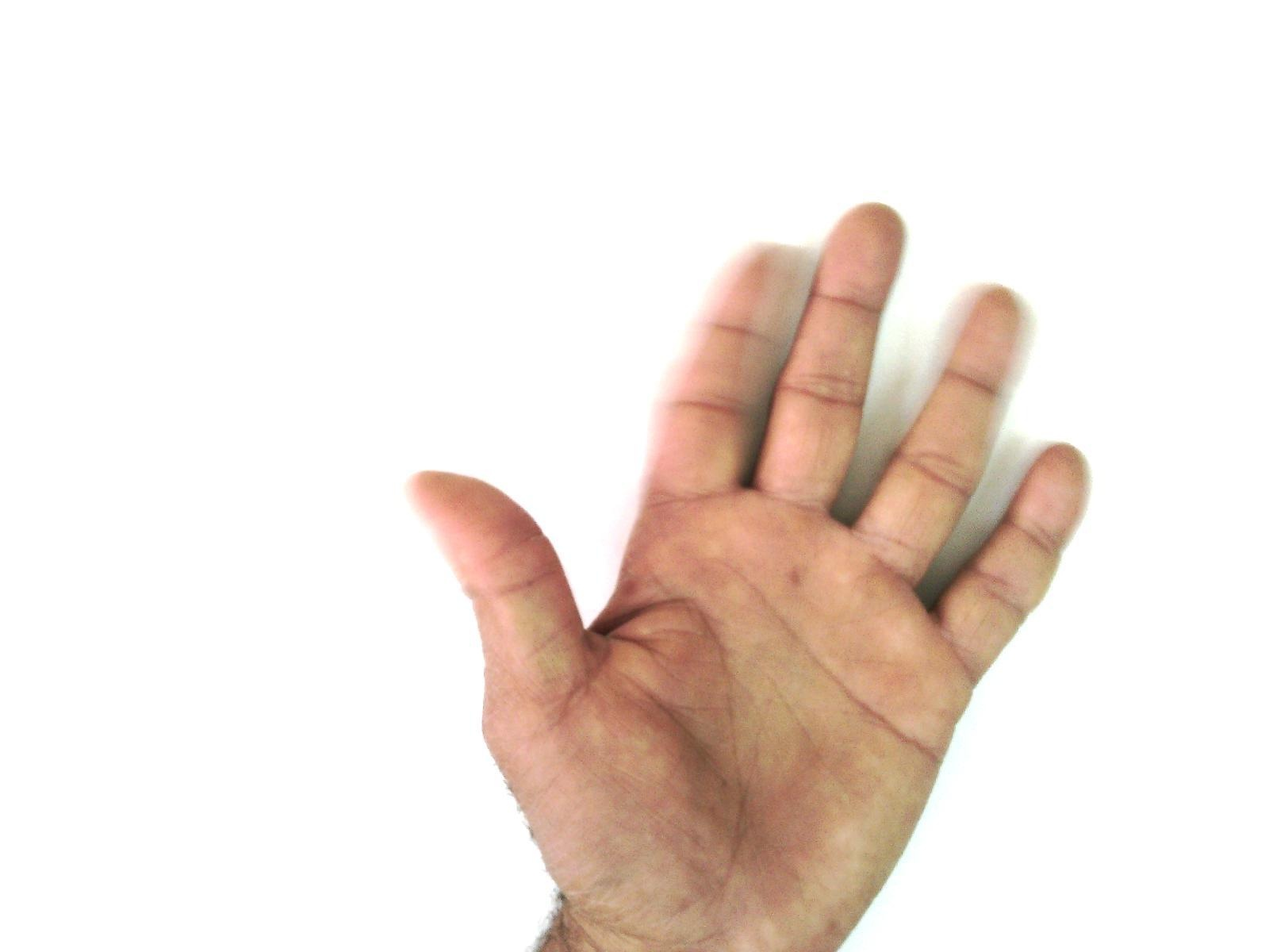open_palm: (404, 201, 1095, 951)
